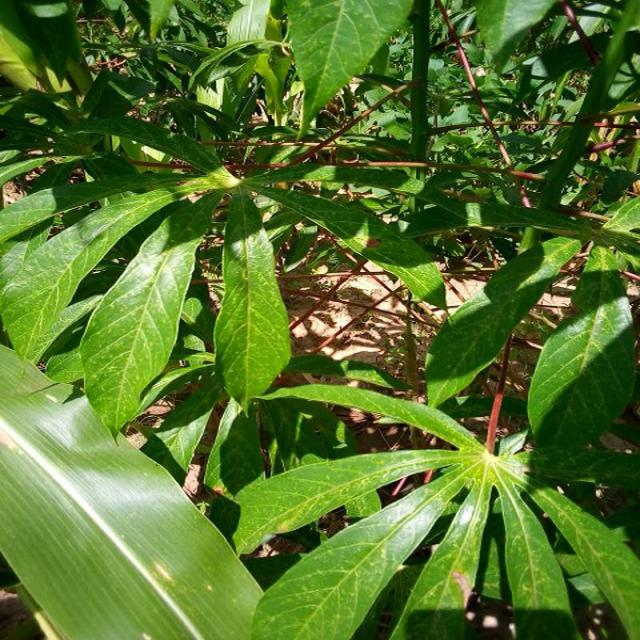cassava leaf: (2, 341, 267, 638), (78, 187, 222, 440), (425, 232, 583, 408), (527, 244, 637, 451), (285, 0, 415, 141), (213, 189, 293, 413)
